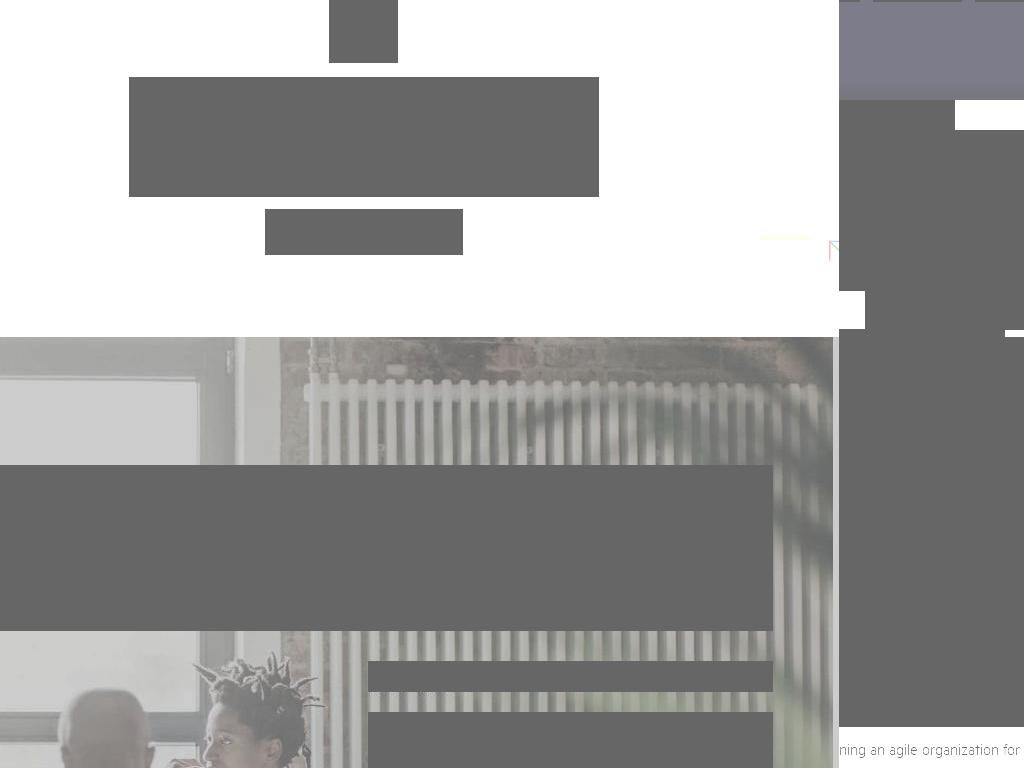button: (265, 209, 463, 255), (839, 595, 1007, 617), (839, 551, 911, 573)
heading: (0, 465, 773, 631), (129, 77, 599, 197), (839, 364, 1024, 476), (839, 130, 967, 151)
image: (839, 100, 955, 291), (329, 0, 398, 63), (887, 553, 906, 573), (983, 597, 1002, 617)
text: (839, 337, 1024, 727), (865, 130, 1024, 330), (368, 712, 773, 768), (368, 661, 773, 692), (839, 485, 1024, 526), (839, 727, 1024, 768), (289, 222, 438, 242), (839, 595, 911, 617), (911, 595, 978, 617), (846, 551, 882, 573)
